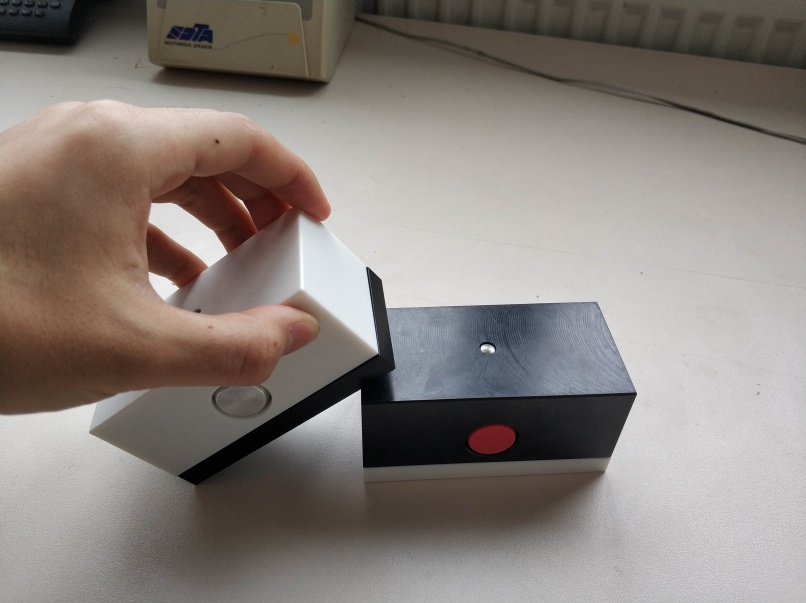black+white+silver: (89, 204, 396, 489)
white+black+red: (359, 301, 639, 483)
